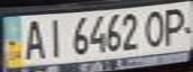2: (118, 10, 145, 51)
4: (87, 11, 109, 54)
6: (103, 10, 127, 53), (66, 13, 90, 55)
A: (18, 16, 48, 61)
I: (42, 16, 69, 60)
O: (139, 7, 172, 48)
P: (157, 4, 193, 46)
